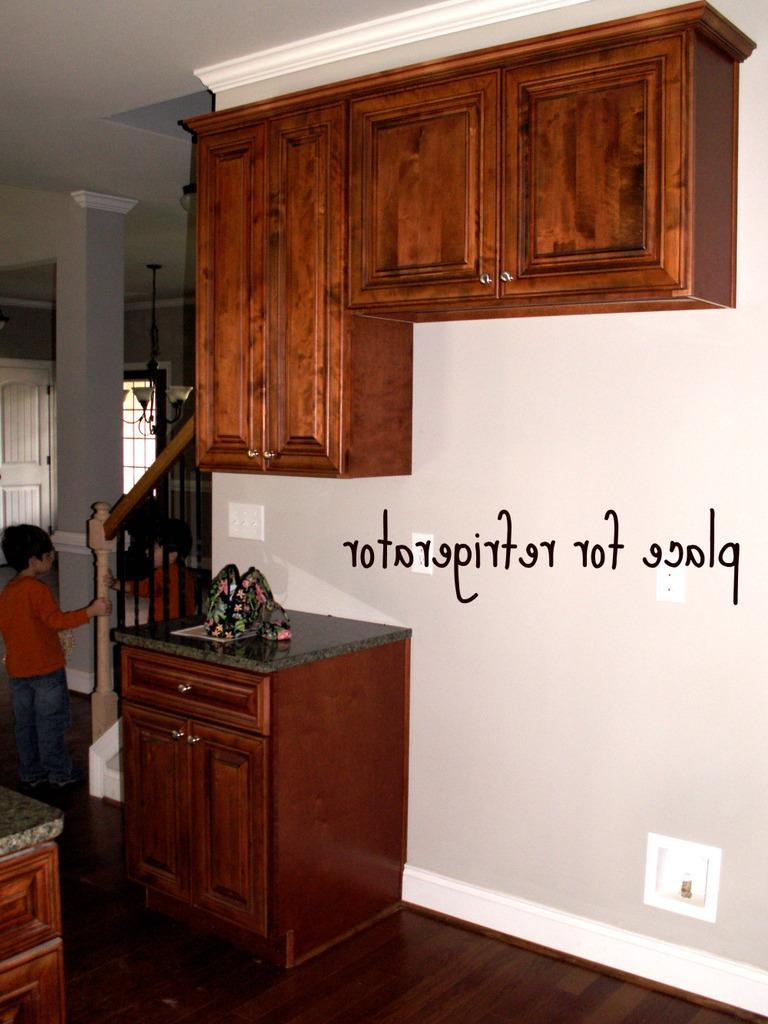door: (2, 372, 48, 524)
